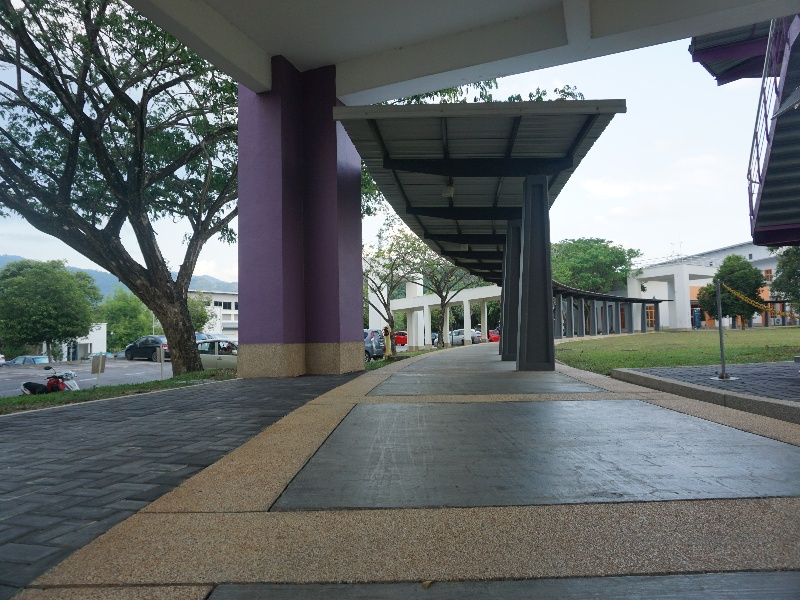Block D Pillar 6: (4, 4, 800, 516)
pillar: (228, 49, 367, 377), (514, 171, 557, 376)
